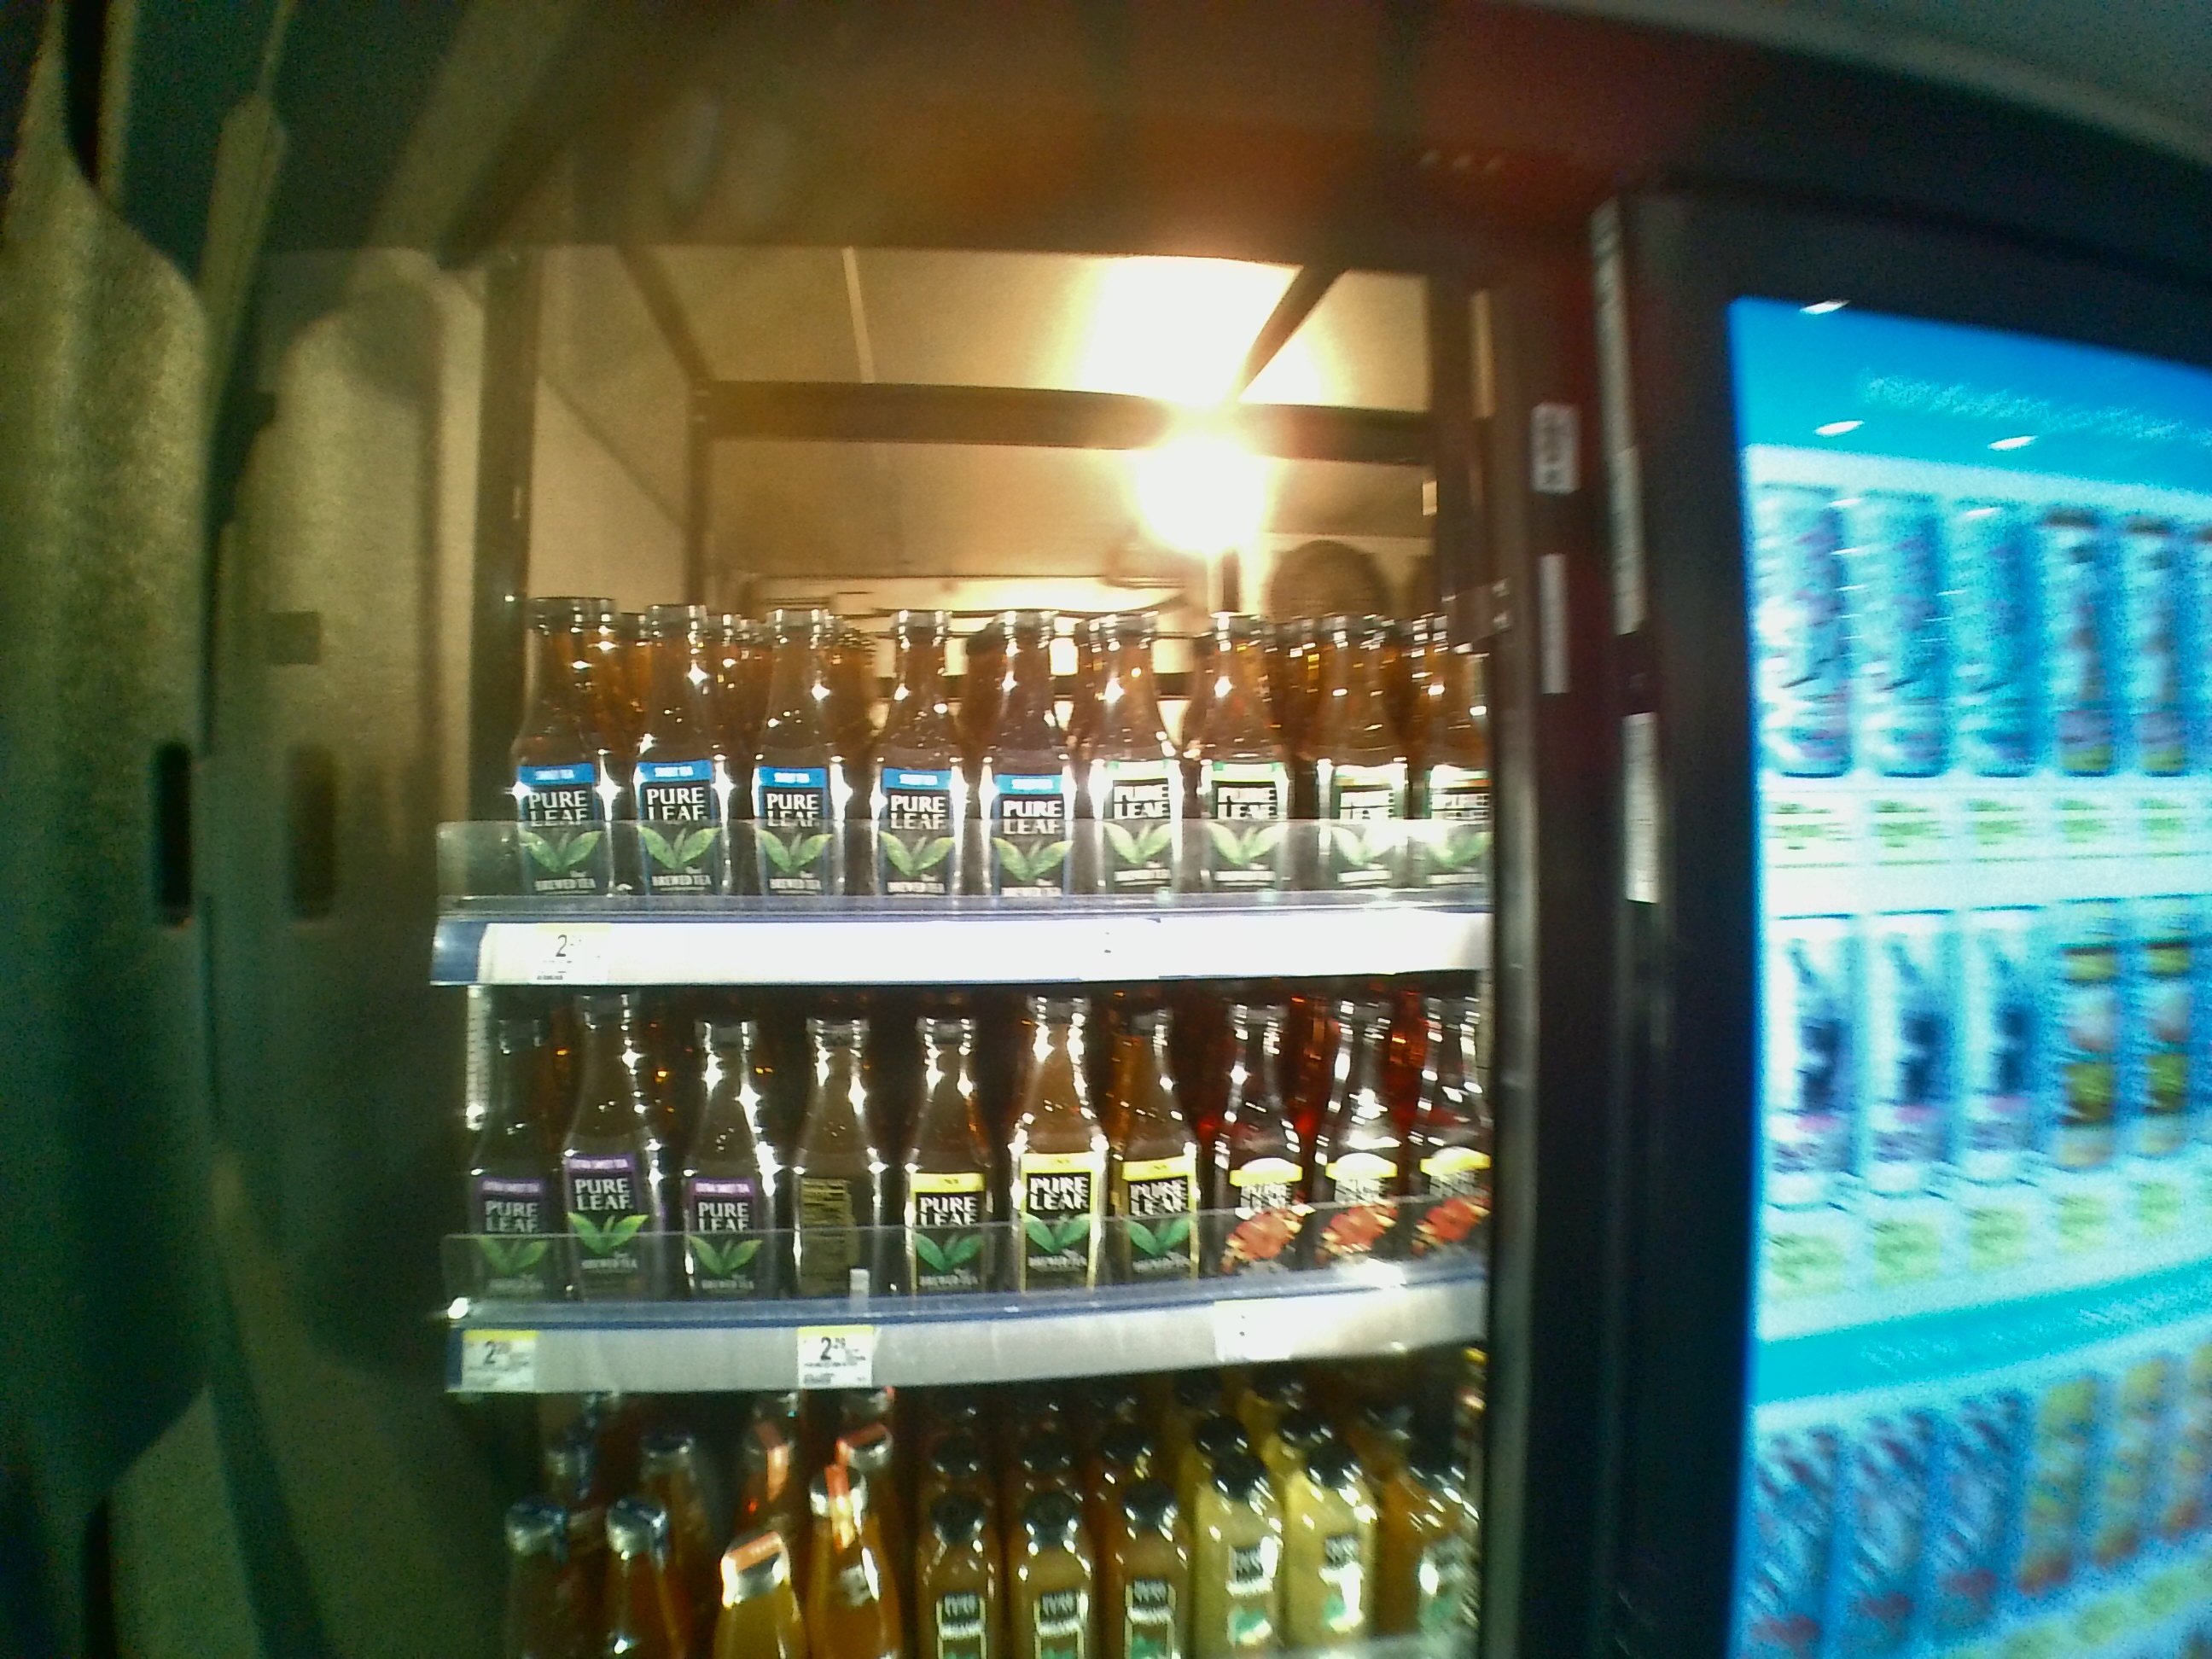shelf: (428, 284, 1496, 969), (434, 985, 1498, 1399)
